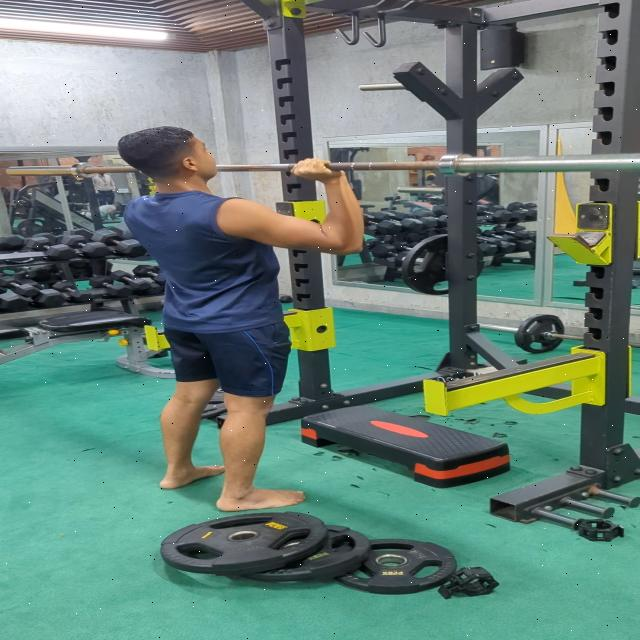Normal_OverheadPress: (92, 110, 376, 520)
